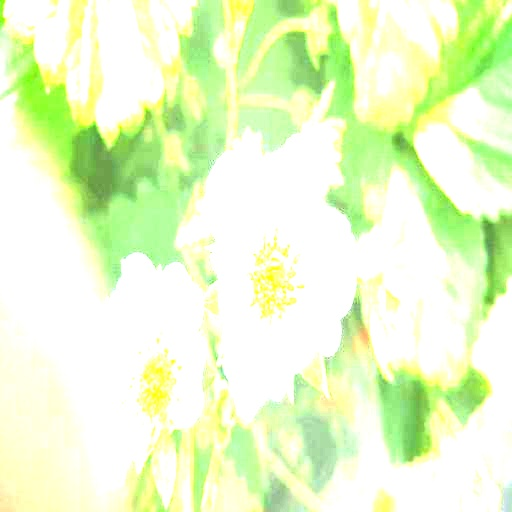Blossom Blight: (117, 319, 190, 440)
